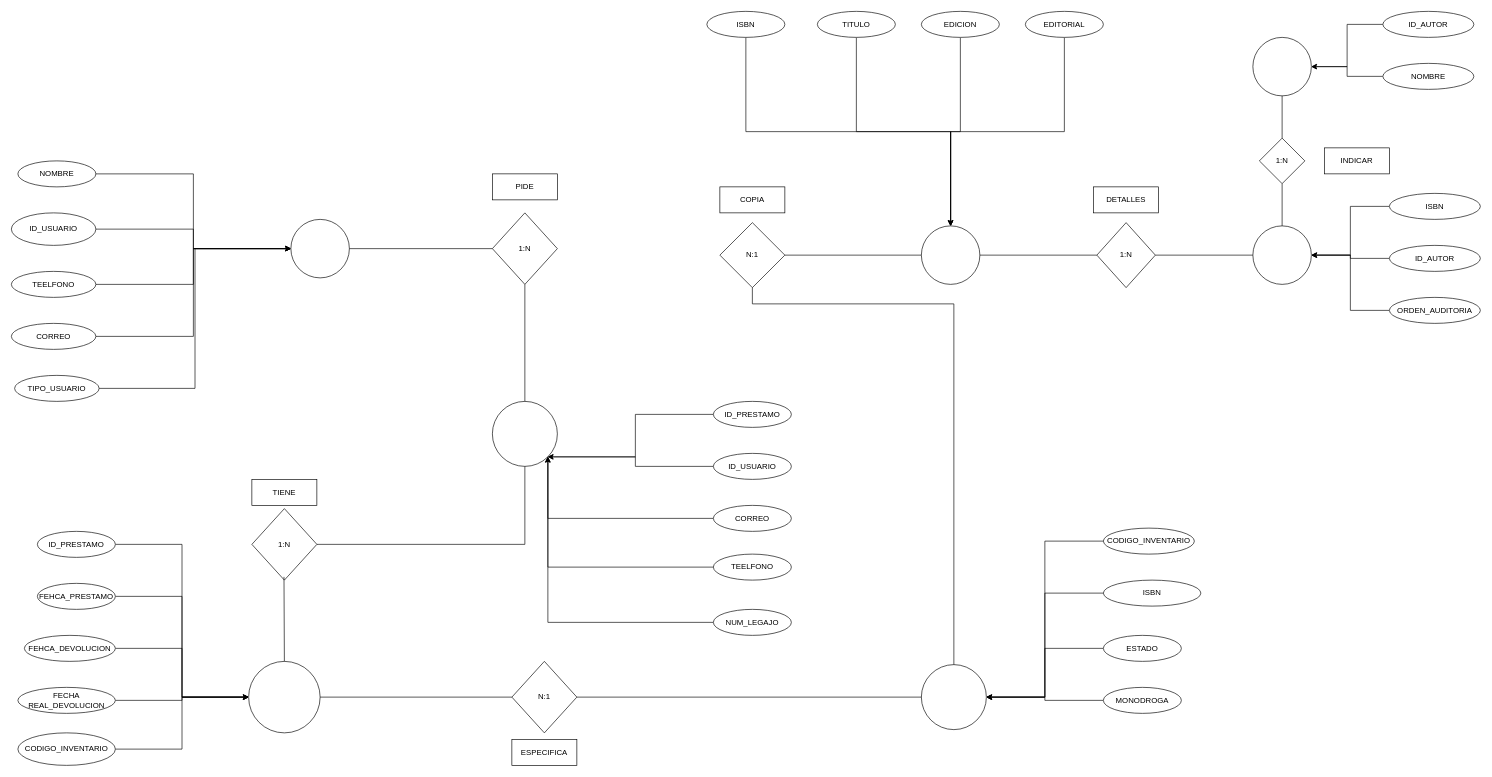
Some shapes in this 1492 by 777 pixel diagram are drawn without their labels. The shapes that lost their labels are listed below. From the top down, each one's centre as x and y in pixels, then its label:
the point at 1281,66: AUTOR
the point at 319,248: USUARIO
the point at 950,254: LIBRO
the point at 1281,254: LIBRO-AUTOR
the point at 524,433: PRESATMO
the point at 284,697: DETALLE-PRESATMO
the point at 953,697: EJEMPLAR
